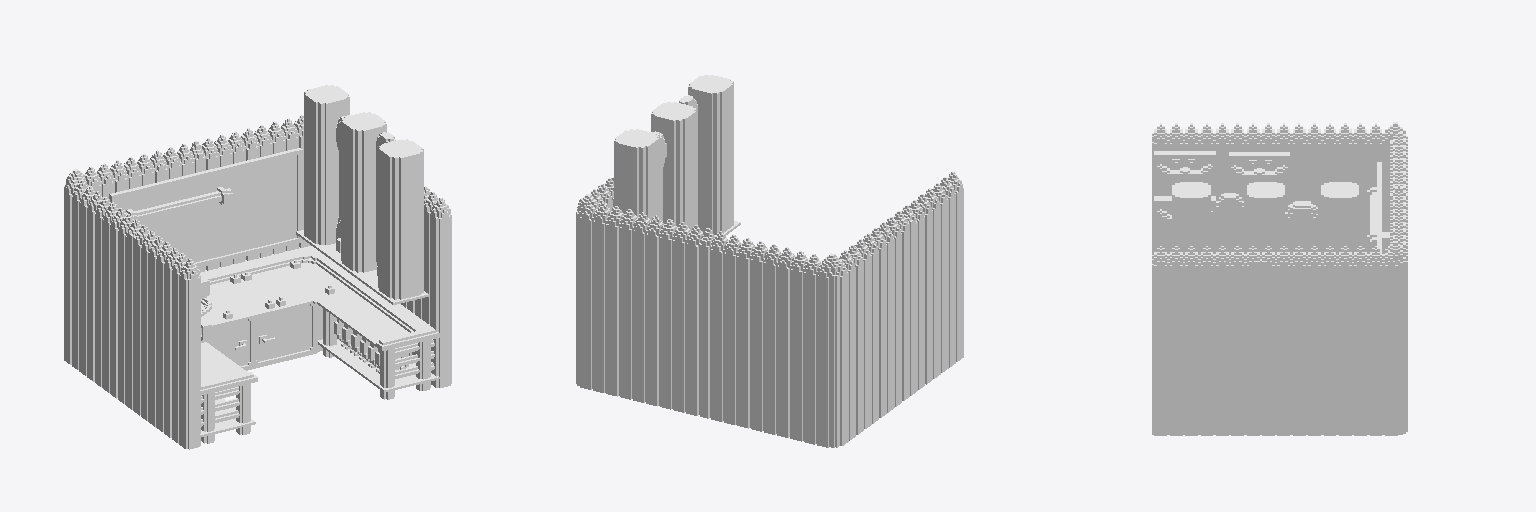
File: player_upgrade_station_v0.8.obj
3 renders of one model, left to right at view 1: azimuth 30°, elevation 25°; view 2: azimuth 150°, elevation 25°; view 3: azimuth 270°, elevation 25°, orthographic.
Parts seen in each view (by area): view 1: object 1; view 2: object 1; view 3: object 1.
Boxes of the visible parts, x1,y1,x2,y2 form: object 1: [64, 85, 451, 449]; object 1: [576, 75, 963, 447]; object 1: [1152, 122, 1407, 435].
Bounding box in the file's own units: 12 × 9.9 × 10.